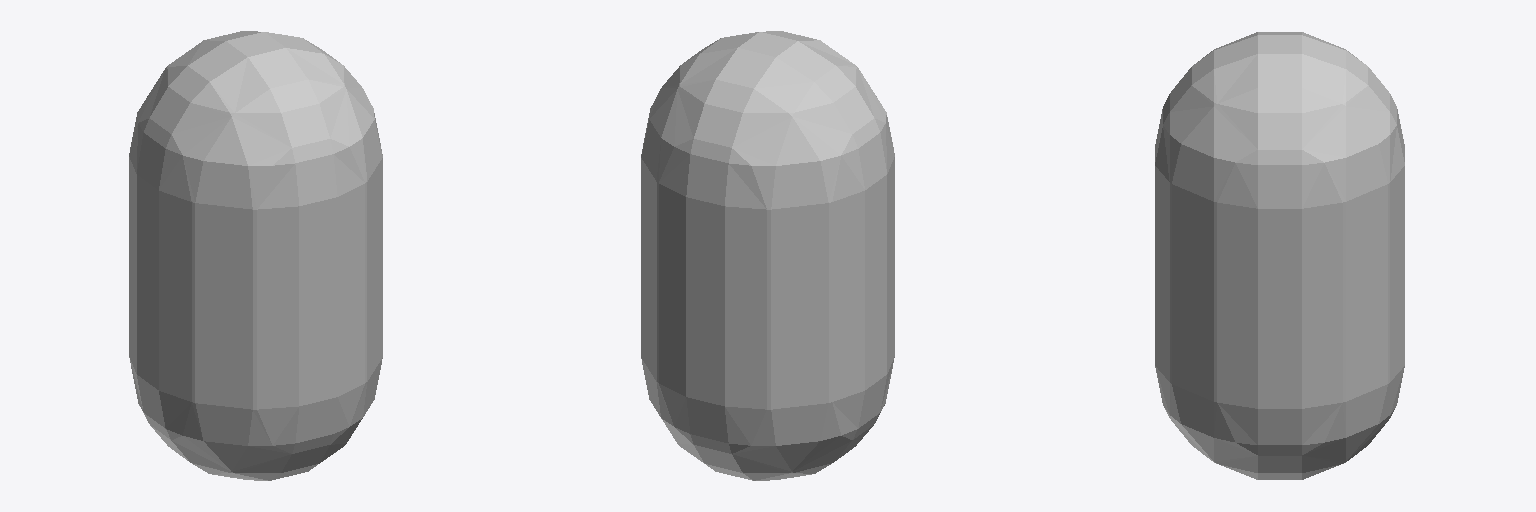
The picture shows the model from 3 angles: view 1: azimuth 30°, elevation 25°; view 2: azimuth 150°, elevation 25°; view 3: azimuth 270°, elevation 25°; orthographic projection.
Parts seen in each view (by area): view 1: Mball; view 2: Mball; view 3: Mball.
Part boxes in pixels (left/top/right/bottom): Mball: left=129, top=31, right=382, bottom=480; Mball: left=641, top=31, right=894, bottom=480; Mball: left=1155, top=32, right=1404, bottom=479.
Bounding box in the file's own units: 2.27 × 4.23 × 2.27.